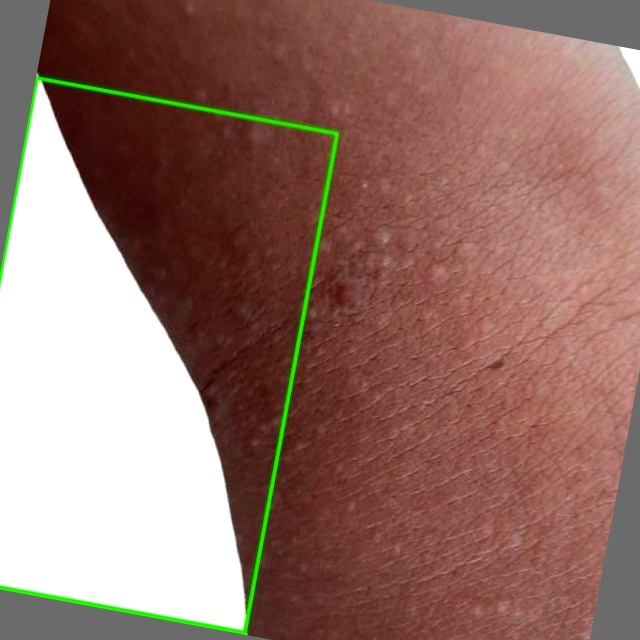Scabies: (0, 77, 338, 634)
